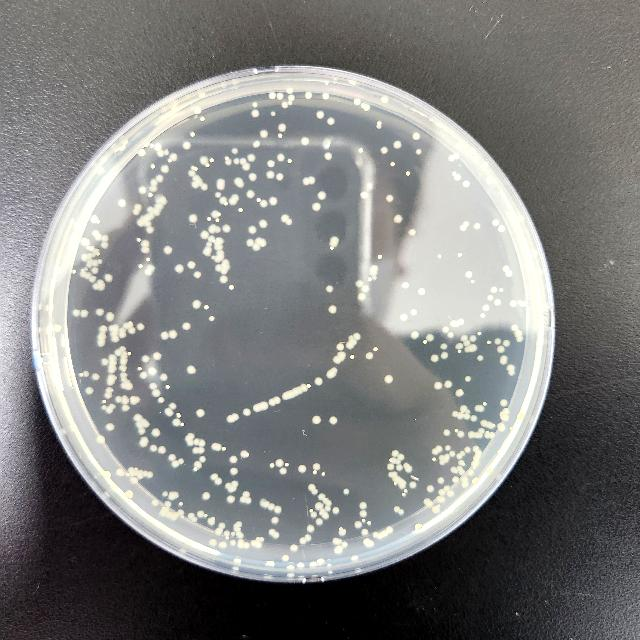colony: (282, 390, 296, 400), (328, 236, 339, 247), (153, 444, 165, 454), (156, 196, 168, 206), (121, 378, 131, 388), (158, 508, 168, 518), (234, 177, 244, 187), (139, 436, 149, 446), (369, 265, 379, 275), (202, 246, 212, 256), (148, 366, 158, 376), (168, 329, 178, 339), (314, 376, 324, 386), (151, 427, 161, 437), (160, 331, 170, 341), (188, 213, 198, 223), (187, 364, 197, 374), (106, 376, 115, 386), (326, 369, 336, 378), (172, 418, 182, 427), (96, 434, 105, 444), (197, 408, 206, 418), (152, 352, 162, 361), (393, 214, 402, 224), (318, 190, 327, 200), (312, 202, 321, 212), (164, 408, 173, 417), (330, 366, 338, 376), (259, 498, 267, 508), (136, 420, 146, 428), (108, 324, 118, 332), (211, 443, 221, 451), (500, 414, 510, 422), (323, 139, 331, 149), (334, 545, 344, 553), (314, 502, 324, 510), (80, 238, 90, 246), (332, 356, 342, 364), (500, 355, 508, 365), (354, 280, 364, 288), (140, 239, 150, 247), (312, 416, 322, 424), (118, 198, 126, 208), (454, 389, 464, 397), (182, 322, 192, 330), (258, 220, 268, 228), (106, 311, 114, 321), (200, 230, 210, 238), (384, 375, 394, 383), (300, 137, 310, 145), (192, 300, 202, 308), (278, 122, 286, 132), (222, 224, 232, 232), (253, 402, 261, 412), (300, 383, 308, 392), (168, 492, 176, 501), (116, 468, 125, 476), (338, 352, 347, 360), (227, 495, 236, 503), (161, 164, 169, 173), (247, 190, 256, 198), (248, 224, 256, 233), (174, 264, 183, 272), (261, 402, 269, 411), (154, 203, 164, 210), (540, 302, 548, 310), (222, 263, 230, 271), (194, 178, 202, 186), (139, 216, 147, 224), (243, 408, 251, 416), (237, 180, 245, 188), (398, 481, 406, 489), (110, 330, 118, 338), (185, 434, 193, 442), (97, 279, 105, 287), (108, 366, 116, 374), (216, 250, 224, 258), (530, 249, 538, 257), (338, 528, 346, 536), (308, 176, 316, 184), (262, 500, 270, 508), (171, 512, 179, 520), (125, 382, 133, 390), (222, 258, 230, 266), (229, 198, 237, 206), (146, 212, 154, 220), (363, 538, 371, 546), (276, 92, 284, 100), (217, 178, 225, 186), (450, 319, 458, 327), (147, 264, 155, 272), (98, 332, 106, 340), (187, 432, 195, 440), (360, 191, 368, 199), (96, 308, 104, 316), (211, 210, 219, 218), (136, 218, 144, 226), (260, 199, 268, 207), (100, 325, 108, 333), (70, 240, 78, 248), (438, 488, 446, 496), (131, 476, 139, 484), (200, 156, 208, 164), (109, 353, 117, 361), (207, 517, 215, 525), (423, 498, 431, 506), (194, 106, 202, 114), (209, 538, 217, 546), (290, 544, 298, 552), (120, 358, 128, 366), (497, 423, 505, 431), (171, 460, 179, 468), (170, 153, 178, 161), (219, 196, 227, 204), (154, 143, 162, 151), (103, 470, 111, 478), (226, 415, 234, 423), (74, 222, 82, 230), (408, 228, 416, 236), (446, 490, 454, 498), (346, 341, 354, 349), (208, 225, 216, 233), (444, 380, 452, 388), (324, 152, 332, 160), (125, 490, 133, 498), (146, 226, 154, 234), (469, 344, 477, 352), (134, 413, 142, 421), (194, 460, 202, 468), (90, 215, 98, 223), (304, 534, 312, 542), (214, 264, 222, 272), (150, 178, 158, 186), (410, 308, 418, 316), (514, 330, 522, 338), (152, 389, 160, 397), (242, 163, 250, 171), (275, 459, 283, 467), (482, 304, 490, 312), (361, 285, 369, 293), (149, 382, 157, 390), (412, 132, 420, 140), (494, 298, 502, 306), (332, 506, 340, 514), (353, 333, 361, 341), (246, 238, 254, 246), (400, 313, 408, 321), (86, 386, 94, 394), (306, 524, 314, 532), (251, 109, 259, 117), (101, 357, 109, 365), (281, 214, 289, 222), (276, 173, 284, 181), (490, 286, 498, 294), (106, 423, 114, 431), (354, 520, 362, 528), (121, 404, 129, 412), (138, 149, 146, 157), (229, 455, 237, 463), (313, 462, 321, 470), (200, 183, 208, 191), (302, 177, 310, 185), (470, 414, 478, 422), (220, 275, 228, 283), (168, 453, 176, 461), (160, 373, 168, 381), (357, 293, 365, 301), (274, 505, 282, 513), (202, 491, 210, 499), (81, 309, 89, 317), (158, 446, 166, 454), (139, 371, 147, 379), (139, 186, 147, 194), (462, 180, 470, 188), (411, 331, 419, 339), (183, 141, 191, 149), (150, 444, 158, 452), (322, 92, 330, 100), (426, 333, 434, 341), (386, 194, 394, 202), (497, 224, 505, 232), (249, 173, 257, 181), (247, 154, 255, 162), (137, 322, 145, 330), (187, 261, 195, 269), (329, 416, 337, 424), (298, 465, 306, 473), (431, 354, 439, 362), (426, 484, 434, 492), (260, 130, 268, 138), (434, 381, 442, 389), (380, 146, 388, 154), (500, 398, 508, 406), (104, 274, 112, 282), (365, 352, 373, 360), (164, 246, 172, 254), (277, 153, 285, 161), (316, 111, 324, 119), (393, 140, 401, 148), (266, 170, 274, 178), (156, 174, 164, 182), (329, 305, 337, 313), (269, 197, 277, 205), (268, 398, 276, 406), (240, 450, 248, 458), (516, 412, 524, 420), (137, 486, 145, 494), (436, 496, 446, 502), (130, 395, 136, 405), (410, 475, 420, 481), (233, 522, 240, 530), (218, 182, 225, 190), (232, 414, 240, 421), (216, 238, 224, 245), (54, 324, 61, 332), (54, 266, 61, 274), (459, 404, 466, 412), (255, 237, 262, 245), (92, 230, 100, 237), (253, 243, 261, 250), (198, 439, 206, 446), (92, 374, 100, 381), (268, 504, 276, 511), (232, 193, 240, 200), (97, 339, 105, 346), (103, 178, 111, 185), (480, 419, 488, 426), (253, 140, 260, 148), (459, 224, 466, 232), (158, 150, 165, 158), (318, 494, 326, 501), (387, 464, 395, 471), (188, 170, 196, 177), (474, 222, 481, 230), (210, 474, 218, 481), (170, 402, 177, 410), (391, 449, 399, 456), (115, 348, 122, 356), (359, 509, 367, 516), (267, 160, 275, 167), (134, 203, 142, 210), (308, 484, 316, 491), (502, 339, 510, 346), (336, 344, 344, 351), (392, 476, 401, 482), (292, 388, 298, 397), (198, 509, 205, 516), (208, 235, 215, 242), (394, 458, 402, 464), (297, 386, 303, 394), (220, 268, 228, 274), (380, 530, 388, 536), (266, 560, 274, 566), (297, 562, 305, 568), (366, 540, 374, 546), (194, 438, 200, 446), (228, 486, 236, 492), (120, 382, 128, 388), (87, 252, 93, 260), (142, 470, 148, 478), (144, 420, 150, 428), (236, 532, 244, 538), (426, 501, 434, 507), (317, 558, 325, 564), (474, 432, 482, 438), (214, 256, 222, 262), (98, 283, 104, 291), (478, 404, 484, 412), (250, 540, 258, 546), (144, 269, 152, 275), (457, 412, 463, 420), (460, 476, 468, 482), (106, 406, 112, 414), (468, 148, 476, 154), (260, 239, 266, 247), (111, 336, 119, 342), (82, 254, 88, 262), (120, 364, 126, 372), (132, 209, 140, 215), (192, 175, 200, 181), (224, 482, 232, 488), (402, 462, 410, 468), (154, 209, 160, 217), (516, 336, 524, 342), (164, 500, 172, 506), (92, 282, 98, 290), (142, 247, 150, 253), (268, 528, 276, 534), (502, 408, 510, 414), (432, 506, 440, 512), (120, 372, 128, 378), (122, 396, 128, 404), (270, 92, 276, 100), (288, 95, 296, 101), (458, 318, 464, 326), (122, 322, 130, 328), (286, 88, 294, 94), (138, 428, 146, 434), (311, 510, 317, 518), (215, 528, 223, 534), (382, 96, 388, 104), (242, 491, 250, 497), (218, 522, 226, 528), (506, 364, 514, 370), (149, 186, 157, 192), (280, 468, 288, 474), (486, 176, 492, 184), (105, 387, 113, 393), (272, 516, 278, 524), (128, 328, 136, 334), (468, 430, 474, 438), (494, 338, 502, 344), (497, 346, 505, 352), (456, 342, 462, 350), (286, 218, 292, 226), (72, 310, 80, 316), (191, 182, 199, 188), (510, 324, 518, 330), (442, 326, 450, 332), (362, 528, 368, 536), (306, 92, 312, 100), (101, 242, 109, 248), (102, 234, 108, 242), (466, 270, 472, 278), (506, 270, 512, 278), (440, 343, 448, 349), (458, 430, 464, 438), (460, 335, 468, 341), (230, 468, 238, 474), (438, 476, 444, 484), (440, 352, 448, 358), (142, 356, 150, 362), (418, 288, 426, 294), (326, 286, 334, 292), (452, 476, 460, 482), (327, 118, 335, 124), (193, 272, 201, 278), (274, 396, 280, 404), (170, 105, 178, 111), (92, 249, 100, 255), (120, 352, 128, 358), (234, 558, 242, 564), (183, 540, 191, 546), (110, 359, 116, 366), (349, 339, 356, 345), (238, 538, 245, 544), (215, 244, 222, 250), (389, 457, 396, 463), (255, 542, 262, 548), (220, 542, 227, 548), (178, 509, 185, 515), (464, 339, 470, 346), (96, 233, 102, 240), (105, 392, 112, 398), (235, 521, 242, 527), (198, 447, 205, 453), (398, 454, 404, 461), (454, 173, 460, 180), (215, 225, 221, 232), (234, 158, 240, 165), (215, 478, 222, 484), (200, 456, 207, 462), (240, 158, 246, 165), (469, 336, 476, 342), (359, 502, 366, 508), (354, 98, 361, 104), (509, 300, 516, 306), (409, 482, 416, 488), (444, 430, 451, 436), (286, 565, 296, 569), (167, 512, 173, 518), (234, 527, 240, 533), (392, 471, 398, 477), (80, 271, 86, 277), (88, 246, 94, 252), (476, 450, 482, 456), (225, 264, 231, 270), (468, 469, 474, 475), (323, 497, 329, 503), (138, 474, 144, 480), (255, 536, 261, 542), (349, 335, 355, 341), (376, 120, 382, 126), (173, 492, 179, 498), (326, 500, 332, 506), (486, 422, 492, 428), (484, 432, 490, 438), (78, 372, 84, 378), (438, 454, 444, 460), (352, 554, 358, 560), (98, 168, 104, 174), (187, 440, 193, 446), (86, 262, 92, 268), (388, 472, 394, 478), (145, 221, 151, 227), (128, 321, 134, 327), (206, 241, 212, 247), (482, 162, 488, 168), (85, 272, 91, 278), (120, 332, 126, 338), (92, 260, 98, 266), (72, 235, 78, 241), (462, 481, 468, 487), (192, 516, 198, 522), (128, 467, 134, 473), (332, 538, 338, 544), (450, 466, 456, 472), (372, 531, 378, 537), (444, 454, 450, 460), (147, 472, 153, 478), (436, 445, 442, 451), (226, 159, 232, 165), (518, 215, 524, 221), (162, 490, 168, 496), (509, 370, 515, 376), (224, 530, 230, 536), (245, 498, 251, 504), (244, 542, 250, 548), (192, 447, 198, 453), (239, 496, 245, 502), (416, 523, 422, 529), (323, 513, 329, 519), (312, 489, 318, 495), (120, 346, 126, 352), (473, 446, 479, 452), (152, 499, 158, 505), (489, 432, 495, 438), (325, 506, 331, 512), (232, 480, 238, 486), (83, 371, 89, 377), (147, 207, 153, 213), (463, 221, 469, 227), (273, 532, 279, 538), (158, 397, 164, 403), (394, 506, 400, 512), (386, 526, 392, 532), (456, 453, 462, 459), (396, 464, 402, 470), (178, 458, 184, 464), (473, 478, 479, 484), (90, 276, 96, 282), (92, 267, 98, 273), (457, 143, 463, 149), (450, 450, 456, 456), (503, 265, 509, 271), (364, 105, 370, 111), (116, 396, 122, 402), (406, 466, 412, 472), (282, 102, 288, 108), (480, 312, 486, 318), (188, 512, 194, 518), (316, 518, 322, 524), (448, 155, 454, 161), (432, 448, 438, 454), (464, 414, 470, 420), (252, 102, 258, 108), (452, 411, 458, 417), (343, 488, 349, 494), (444, 485, 450, 491), (216, 192, 222, 198), (464, 447, 470, 453), (416, 148, 422, 154), (300, 538, 306, 544), (492, 219, 498, 225), (448, 332, 454, 338), (232, 148, 238, 154), (402, 282, 408, 288), (537, 270, 543, 276), (123, 140, 129, 146), (114, 147, 120, 153), (135, 396, 141, 402), (499, 410, 505, 416), (238, 543, 244, 549), (443, 458, 449, 464), (282, 556, 290, 560), (70, 424, 74, 432), (474, 406, 480, 410), (165, 506, 169, 512), (138, 470, 144, 474), (53, 278, 57, 284), (377, 534, 383, 538), (350, 80, 356, 84), (366, 184, 372, 188), (120, 146, 126, 150), (360, 519, 366, 523), (372, 276, 378, 280), (150, 144, 156, 148), (260, 536, 264, 542), (332, 77, 338, 81), (210, 255, 216, 259), (320, 509, 324, 515), (376, 125, 382, 129), (456, 466, 462, 470), (310, 562, 316, 566), (472, 461, 476, 467), (473, 456, 479, 460), (224, 156, 230, 160), (524, 300, 528, 306), (110, 404, 116, 408), (120, 327, 124, 333), (360, 104, 366, 108), (102, 404, 106, 410), (459, 470, 465, 474), (458, 460, 464, 464), (288, 100, 292, 106), (479, 428, 485, 432), (98, 258, 102, 264), (138, 264, 144, 268), (342, 542, 348, 546), (151, 164, 155, 170), (200, 117, 206, 121), (238, 208, 244, 212), (358, 148, 364, 152), (398, 510, 404, 514), (453, 154, 459, 158), (230, 540, 236, 544), (464, 348, 470, 352), (270, 112, 276, 116), (190, 132, 196, 136), (460, 450, 464, 456), (164, 149, 168, 155), (209, 316, 215, 320), (488, 295, 492, 301), (148, 192, 152, 198), (466, 376, 470, 382), (477, 356, 483, 360), (199, 93, 205, 97), (519, 301, 523, 307), (46, 304, 49, 312), (437, 504, 441, 508), (330, 246, 334, 250), (217, 212, 221, 216), (338, 540, 342, 544), (97, 219, 101, 223), (224, 201, 228, 205), (96, 252, 100, 256), (517, 300, 521, 304), (325, 81, 329, 85), (403, 489, 407, 493), (231, 531, 235, 535), (191, 166, 195, 170), (339, 527, 343, 531), (194, 167, 198, 171), (225, 536, 229, 540), (401, 492, 405, 496), (168, 159, 172, 163), (466, 409, 470, 413), (145, 143, 149, 147), (440, 460, 444, 464), (210, 158, 214, 162), (215, 218, 219, 222), (146, 257, 150, 261), (474, 156, 478, 160), (222, 446, 226, 450), (181, 422, 185, 426), (193, 467, 197, 471), (452, 171, 456, 175), (177, 413, 181, 417), (102, 399, 106, 403), (307, 384, 311, 388), (437, 254, 441, 258), (138, 367, 142, 371), (391, 162, 395, 166), (423, 340, 427, 344), (137, 238, 141, 242), (313, 470, 317, 474), (483, 402, 487, 406), (206, 163, 210, 167), (378, 255, 382, 259), (72, 270, 76, 274), (367, 521, 371, 525), (166, 385, 170, 389), (446, 446, 450, 450), (374, 347, 378, 351), (278, 134, 282, 138), (207, 217, 211, 221), (246, 453, 250, 457), (368, 277, 372, 281), (288, 159, 292, 163), (499, 288, 503, 292), (350, 355, 354, 359), (454, 428, 458, 432), (471, 279, 475, 283), (458, 253, 462, 257), (478, 331, 482, 335), (406, 171, 410, 175), (257, 198, 261, 202), (230, 285, 234, 289), (270, 463, 274, 467), (205, 305, 209, 309), (488, 468, 492, 472), (194, 115, 198, 119), (126, 473, 130, 477), (326, 564, 332, 566), (205, 514, 208, 518), (487, 341, 491, 344), (339, 341, 345, 343), (472, 466, 476, 469), (511, 426, 514, 430), (86, 247, 90, 250), (82, 268, 85, 272), (162, 506, 165, 509), (461, 411, 464, 414), (309, 510, 313, 512), (128, 352, 132, 354), (180, 502, 182, 506), (286, 462, 288, 466), (322, 472, 324, 476), (432, 458, 436, 460), (394, 482, 396, 486), (181, 516, 185, 518), (486, 431, 489, 433), (136, 468, 138, 470), (458, 350, 460, 352)
